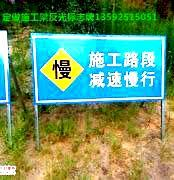sign: (35, 35, 164, 100)
